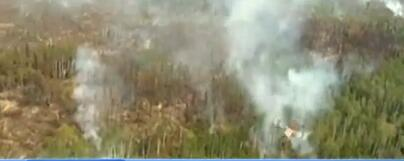yanwu: (70, 0, 349, 156)
